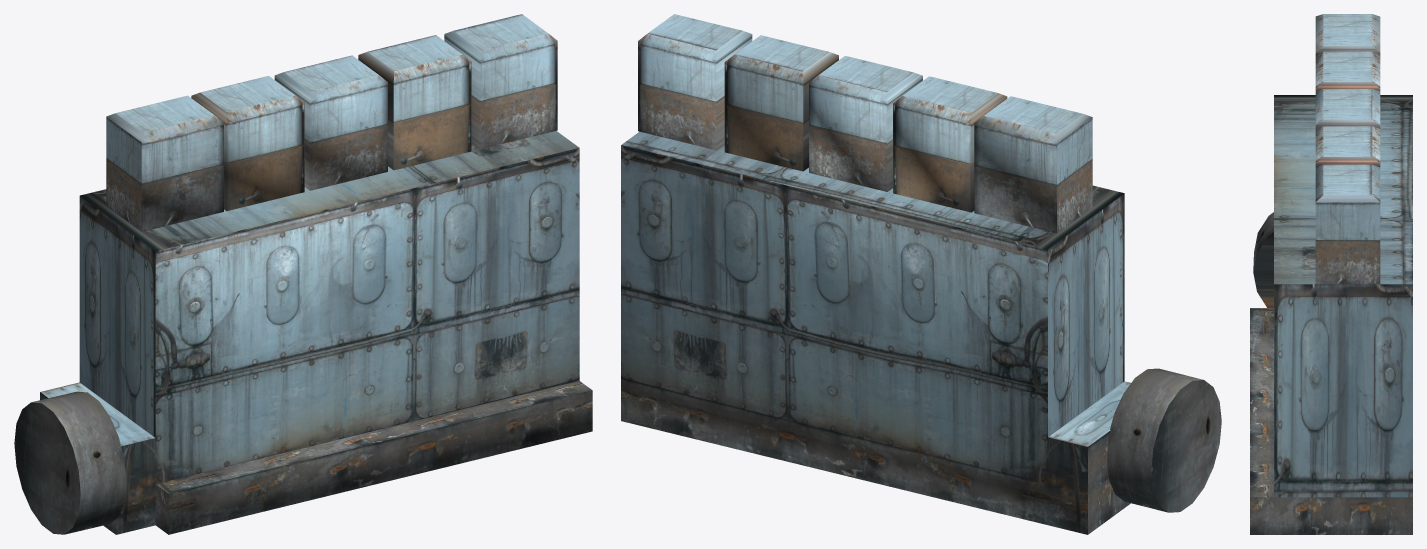
Rendered from industrial25.obj.
The picture shows the model from 3 angles, left to right: view 1: azimuth 30°, elevation 25°; view 2: azimuth 150°, elevation 25°; view 3: azimuth 270°, elevation 25°; orthographic projection. The views are drawn at different scales.
Parts seen in each view (by area): view 1: industrial25; view 2: industrial25; view 3: industrial25.
Boxes of the visible parts, x1=… form: industrial25: x1=14, y1=14, x2=592, y2=534; industrial25: x1=621, y1=14, x2=1221, y2=534; industrial25: x1=1250, y1=14, x2=1412, y2=534.
Size of the model in its own units: 219 by 152 by 66.16.
1 material, 1 textured.
